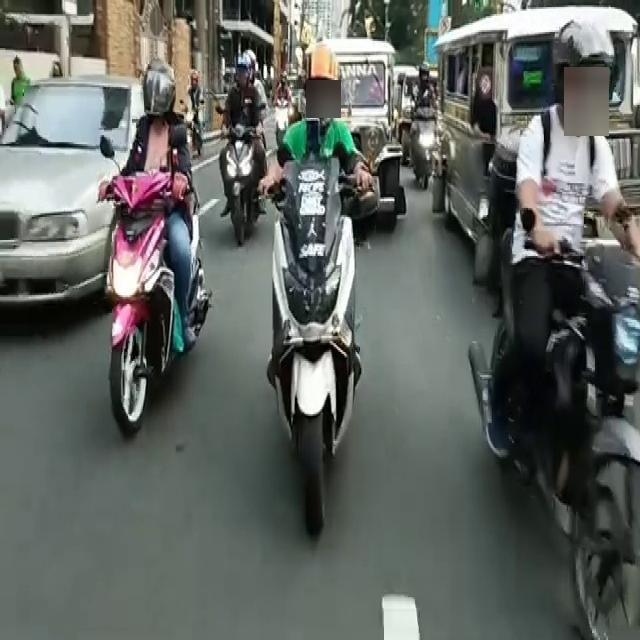car: (0, 71, 122, 301)
jeepney: (431, 20, 563, 294), (321, 40, 409, 242), (571, 9, 634, 197)
motorcycle: (491, 112, 640, 578), (279, 116, 363, 526), (130, 66, 200, 401), (219, 74, 267, 258), (413, 68, 437, 195)
